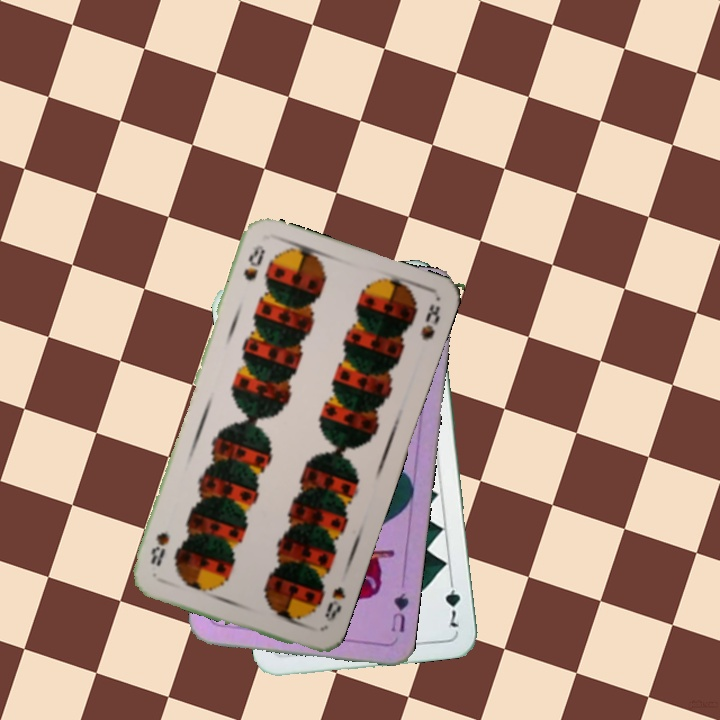G7: (441, 573, 463, 630)
GU: (387, 588, 412, 635)
S8: (239, 241, 268, 284), (320, 582, 348, 624)
